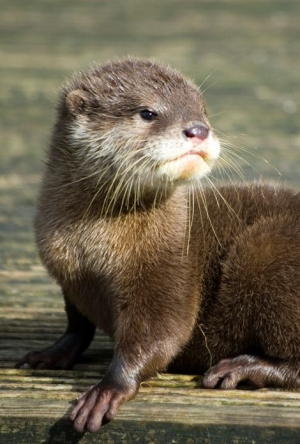otter: (23, 52, 300, 434)
